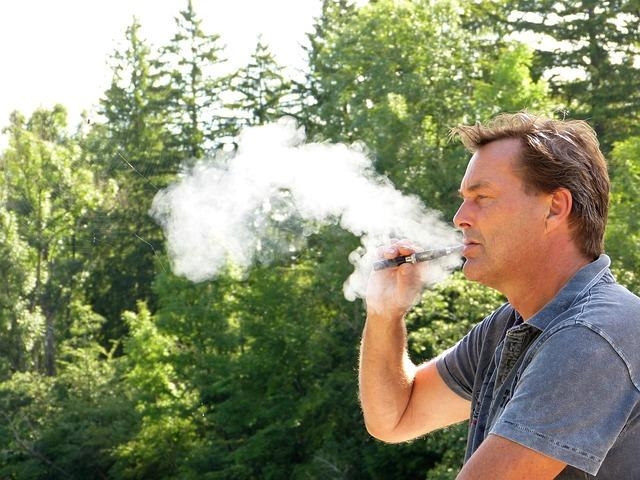smoker: (133, 2, 640, 480)
